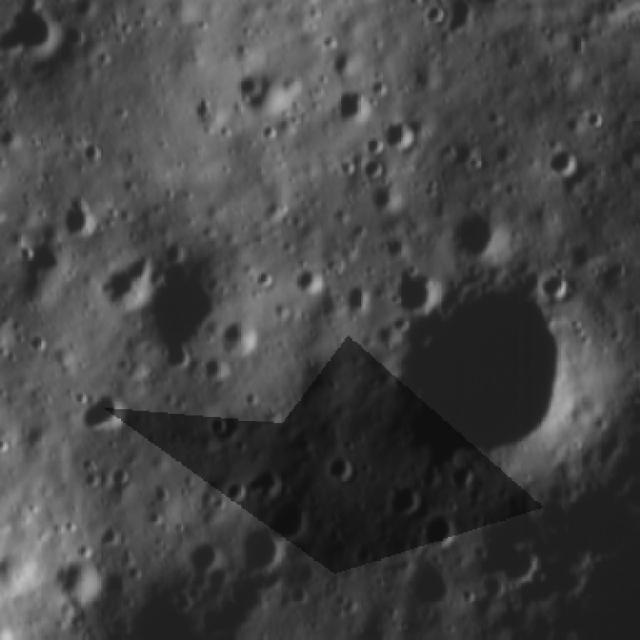crater: (380, 276, 589, 462), (139, 248, 247, 364), (15, 224, 68, 318), (94, 248, 158, 317), (77, 384, 143, 445), (448, 205, 517, 263), (0, 1, 68, 58), (385, 266, 444, 319), (615, 246, 640, 371), (62, 180, 106, 246), (264, 494, 319, 546), (0, 548, 46, 608), (491, 545, 546, 592), (60, 549, 102, 608), (322, 84, 378, 128), (239, 531, 290, 578), (384, 112, 428, 160), (413, 560, 459, 603), (419, 502, 461, 549), (227, 64, 276, 104), (188, 533, 227, 579), (384, 484, 428, 524), (290, 265, 328, 306), (538, 265, 580, 300), (228, 321, 267, 357), (548, 139, 583, 179), (614, 80, 640, 132), (367, 181, 405, 216), (106, 460, 145, 491), (342, 283, 375, 317), (444, 462, 484, 489), (416, 3, 453, 31), (77, 458, 100, 493)
